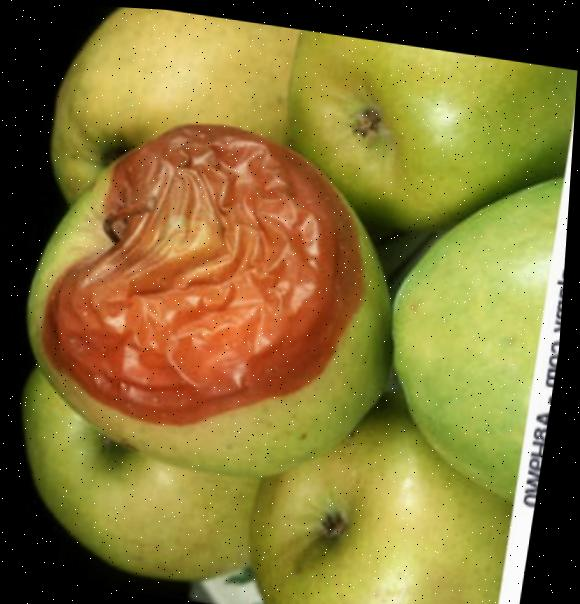ROT: (0, 49, 446, 552)
